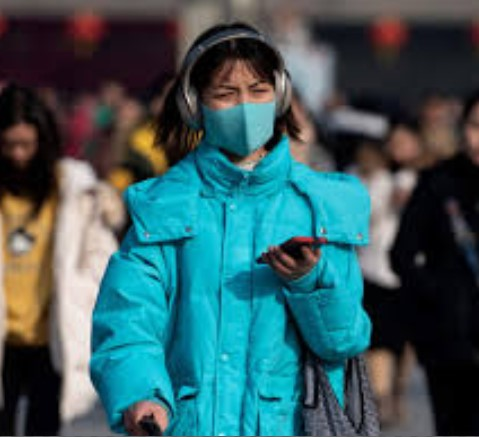face_with_mask: (191, 28, 281, 151)
